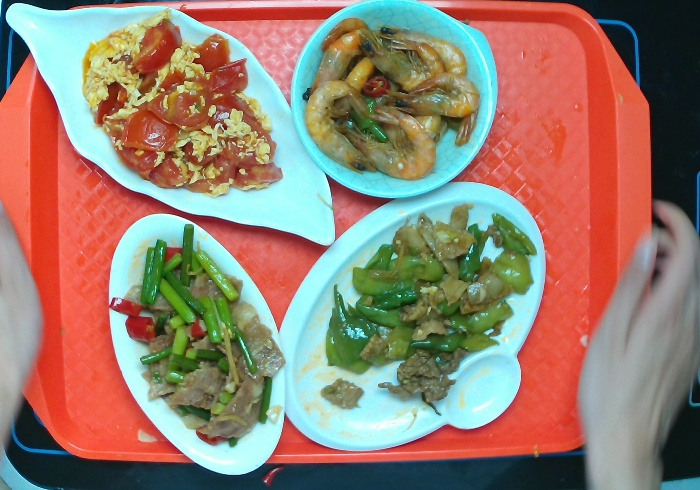RJxy-Bai_Se_Tuo_Yuan: (105, 209, 296, 479)
RJxy-Shu_Ye_Pan: (1, 1, 344, 251)
RJxy-Xiao_Jiao_Yuan_Wan: (290, 1, 496, 212)
RJxy-Zhan_Liao_Pan: (264, 175, 546, 455)
